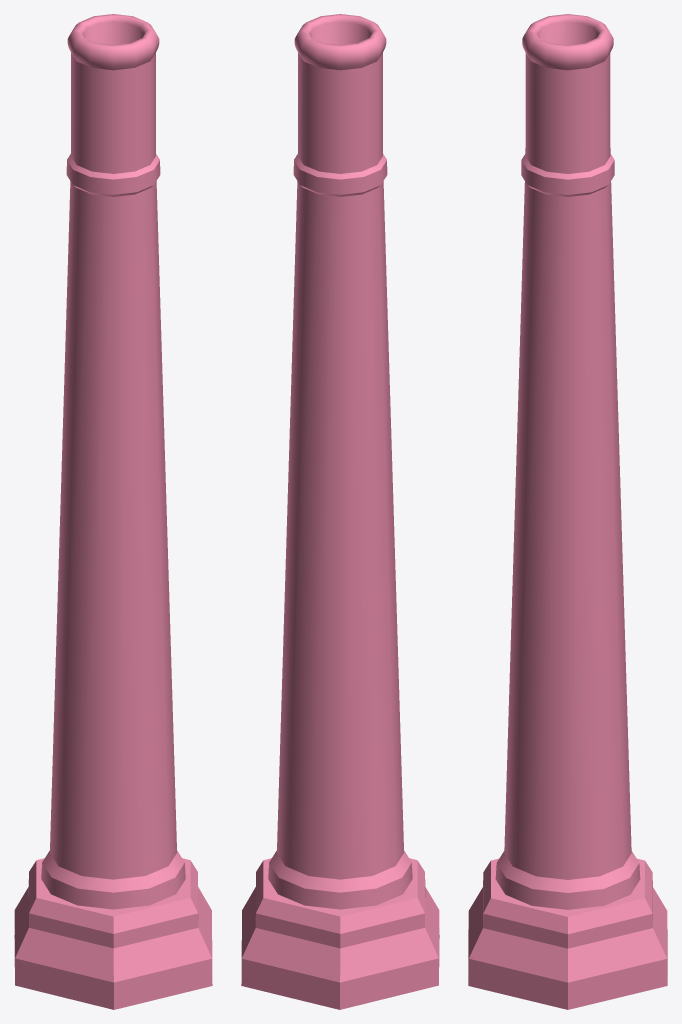
File: FactoryChimney.FBX
The picture shows the model from 3 angles, left to right: view 1: azimuth 30°, elevation 25°; view 2: azimuth 150°, elevation 25°; view 3: azimuth 270°, elevation 25°; orthographic projection.
Visible parts, largest first — view 1: Factory chimney; view 2: Factory chimney; view 3: Factory chimney.
Boxes of the visible parts, x1,y1,x2,y2 form: Factory chimney: [14, 14, 212, 1009]; Factory chimney: [241, 14, 439, 1009]; Factory chimney: [468, 14, 667, 1009].
Size of the model in its own units: 48.63 by 220 by 42.59.
